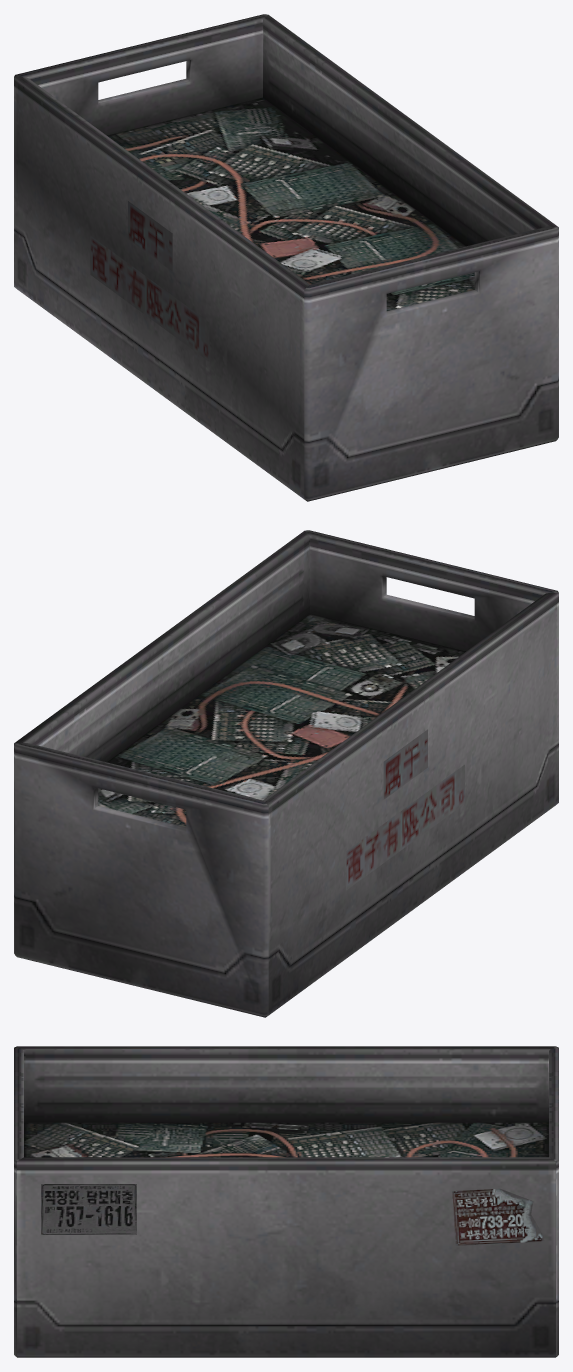
File: junk_chip_basket.dae
3 renders of one model, top to bottom at view 1: azimuth 30°, elevation 25°; view 2: azimuth 150°, elevation 25°; view 3: azimuth 270°, elevation 25°, orthographic. The views are drawn at different scales.
Parts seen in each view (by area): view 1: junk_chip_basket; view 2: junk_chip_basket; view 3: junk_chip_basket.
Boxes of the visible parts, x1,y1,x2,y2 form: junk_chip_basket: (14, 14, 558, 501); junk_chip_basket: (14, 530, 558, 1017); junk_chip_basket: (14, 1046, 558, 1357).
Bounding box in the file's own units: 0.5059 × 0.4 × 1.
